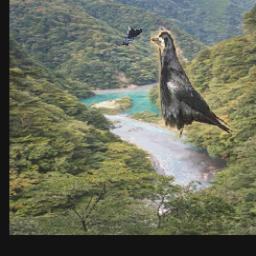Crow: (152, 31, 232, 141), (121, 27, 143, 47)
